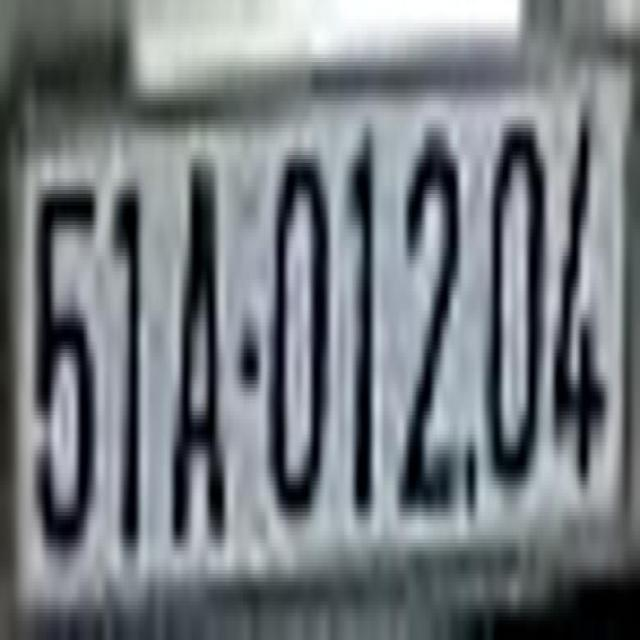0: (266, 132, 330, 543), (484, 70, 542, 516)
1: (338, 104, 382, 532), (112, 162, 147, 562)
2: (400, 108, 460, 504)
4: (552, 50, 613, 512)
5: (31, 144, 101, 566)
A: (166, 132, 225, 555)
